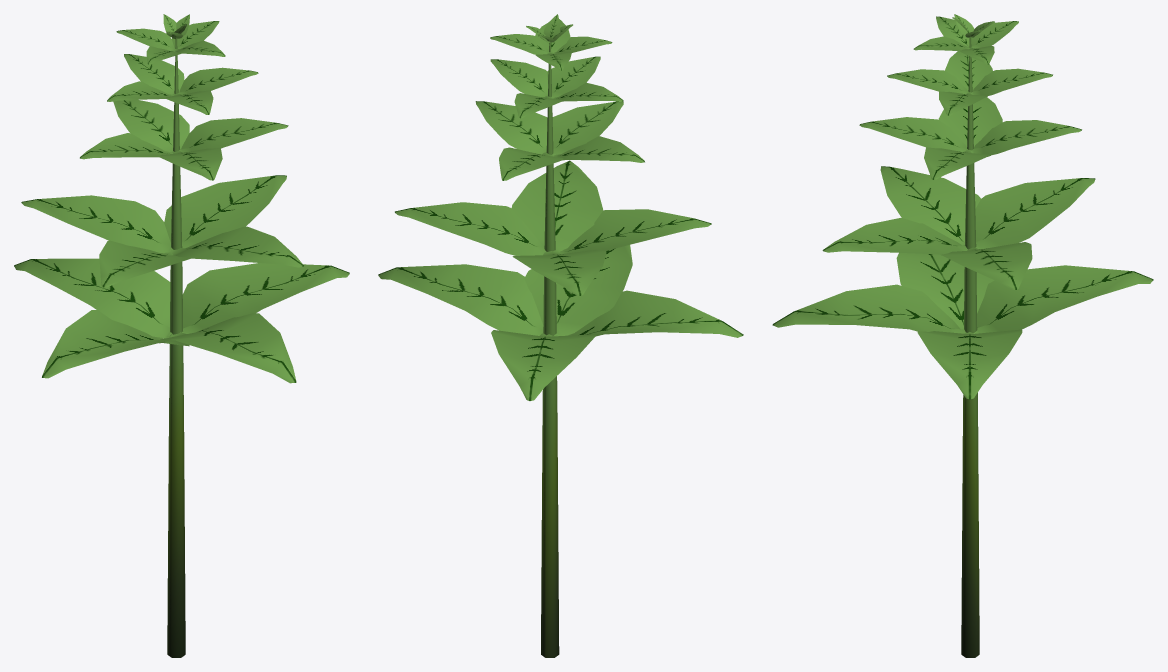
The model's file is Blechum pyramidatum.fbx.
3 renders of one model, left to right at view 1: azimuth 30°, elevation 25°; view 2: azimuth 150°, elevation 25°; view 3: azimuth 270°, elevation 25°, orthographic.
Parts seen in each view (by area): view 1: base stem.005; view 2: base stem.005; view 3: base stem.005.
Part boxes in pixels (x1=…): base stem.005: x1=14, y1=14, x2=349, y2=657; base stem.005: x1=378, y1=14, x2=743, y2=657; base stem.005: x1=772, y1=14, x2=1153, y2=657.
Size of the model in its own units: 1835 by 3306 by 1790.
